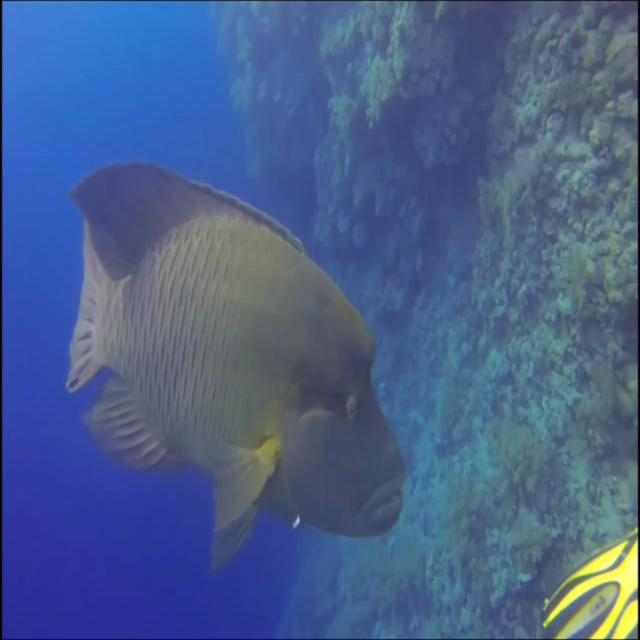Napoleon -Endangered-: (67, 164, 406, 570)
